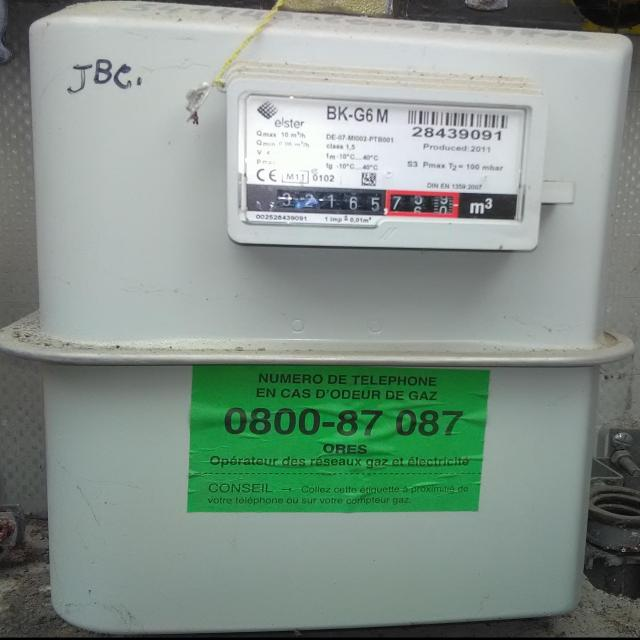gaz_meter: (240, 84, 530, 228)
indication: (269, 186, 461, 216)
